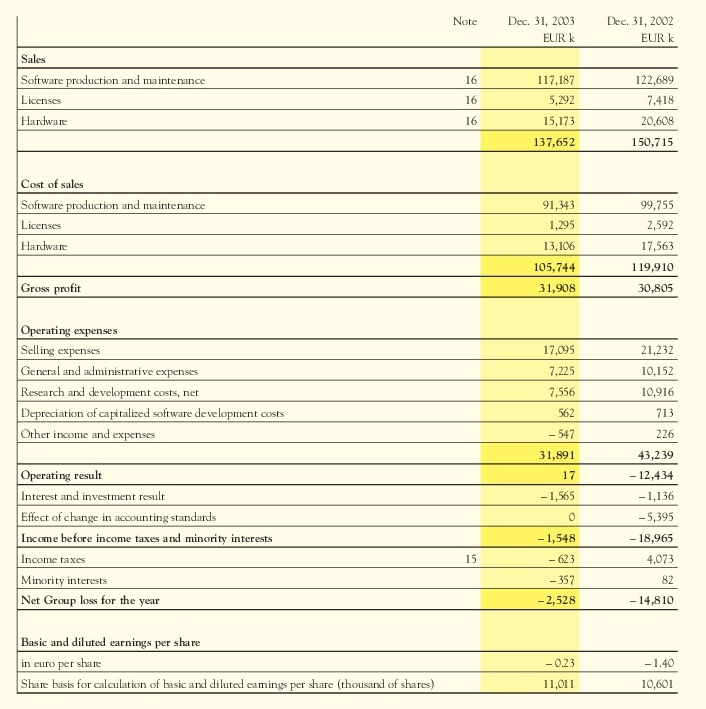table: (0, 0, 706, 709)
